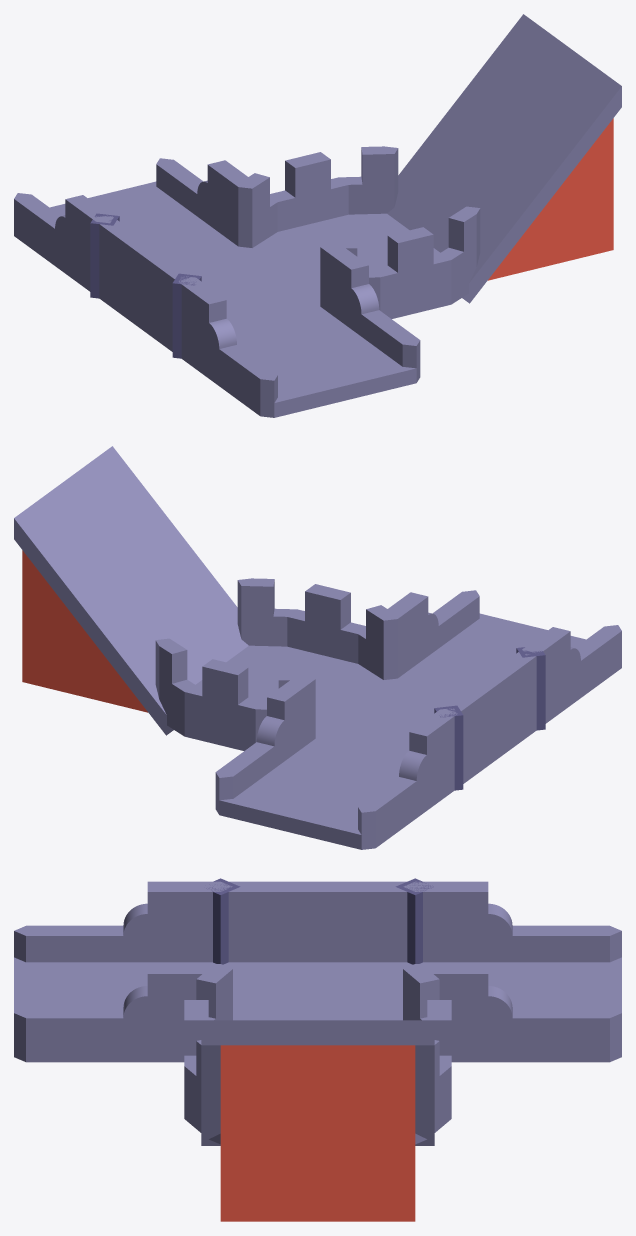
The model's file is corridor5.fbx.
The picture shows the model from 3 angles, top to bottom: view 1: azimuth 30°, elevation 25°; view 2: azimuth 150°, elevation 25°; view 3: azimuth 270°, elevation 25°; orthographic projection. The views are drawn at different scales.
Visible parts, largest first — view 1: mergedBlocks; view 2: mergedBlocks; view 3: mergedBlocks.
Part boxes in pixels (bbox=[...]): mergedBlocks: bbox=[14, 14, 621, 417]; mergedBlocks: bbox=[14, 446, 621, 849]; mergedBlocks: bbox=[14, 878, 621, 1221].
Size of the model in its own units: 31.03 by 12.12 by 31.25.
